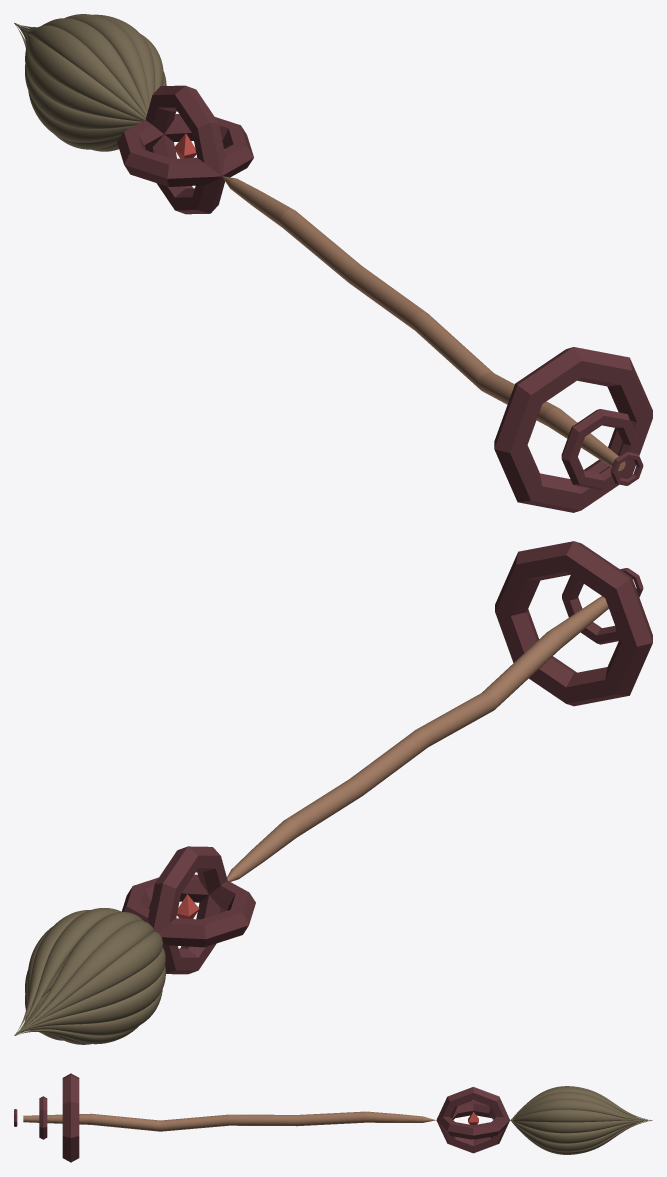
Rendered from Escoba 2.fbx.
The picture shows the model from 3 angles, top to bottom: view 1: azimuth 30°, elevation 25°; view 2: azimuth 150°, elevation 25°; view 3: azimuth 270°, elevation 25°; orthographic projection. The views are drawn at different scales.
Visible parts, largest first — view 1: Escoba 2; view 2: Escoba 2; view 3: Escoba 2.
Part boxes in pixels (x1,y1,x2,y2): Escoba 2: [14, 14, 652, 512]; Escoba 2: [14, 541, 652, 1044]; Escoba 2: [14, 1073, 652, 1162].
Bounding box in the file's own units: 68.7 × 68.7 × 462.
